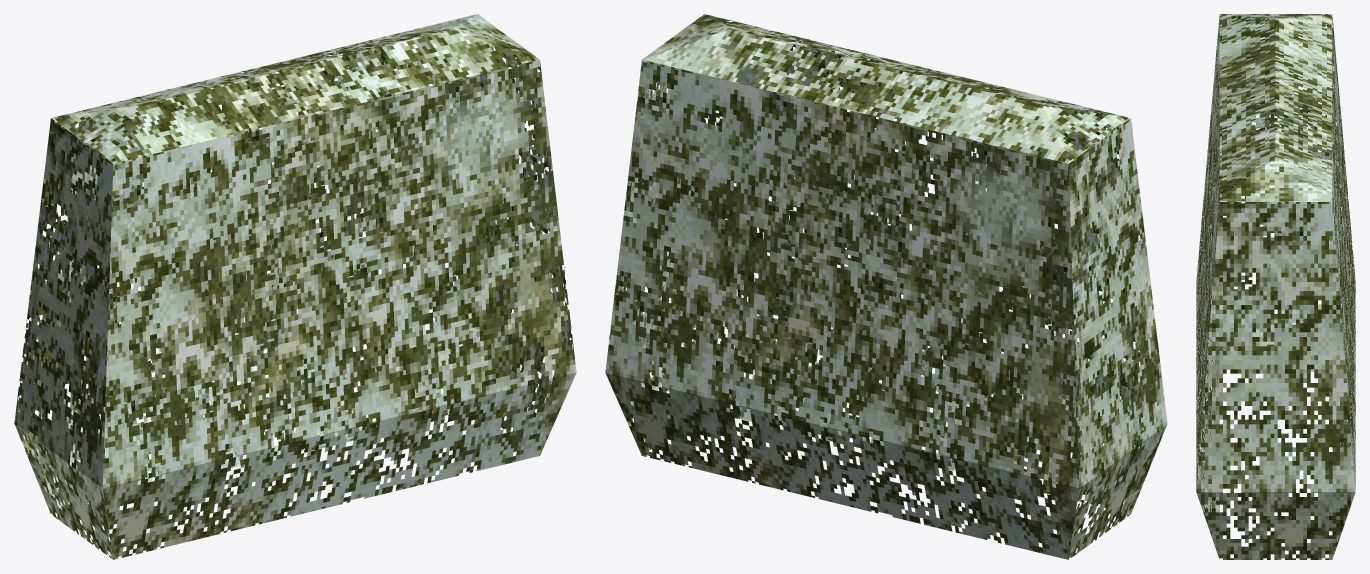
Rendered from bush_tall_single_winter.glb.
The picture shows the model from 3 angles, left to right: view 1: azimuth 30°, elevation 25°; view 2: azimuth 150°, elevation 25°; view 3: azimuth 270°, elevation 25°; orthographic projection. The views are drawn at different scales.
Parts seen in each view (by area): view 1: bush_tall_single_winter; view 2: bush_tall_single_winter; view 3: bush_tall_single_winter.
Boxes of the visible parts, bbox=[...] form: bush_tall_single_winter: bbox=[14, 14, 576, 559]; bush_tall_single_winter: bbox=[605, 14, 1167, 559]; bush_tall_single_winter: bbox=[1196, 14, 1355, 559].
Bounding box in the file's own units: 2.23 × 1.88 × 0.7191.
Materials: 1 (1 with a texture image).
